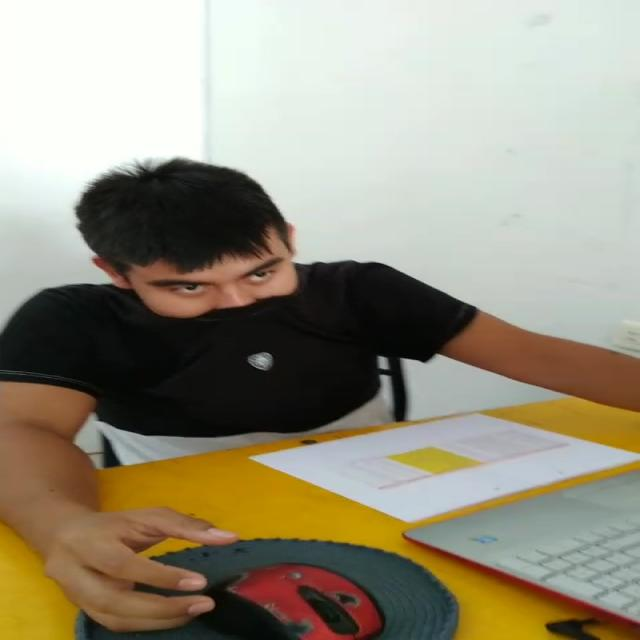8_ropa_rostro: (56, 276, 403, 372)
